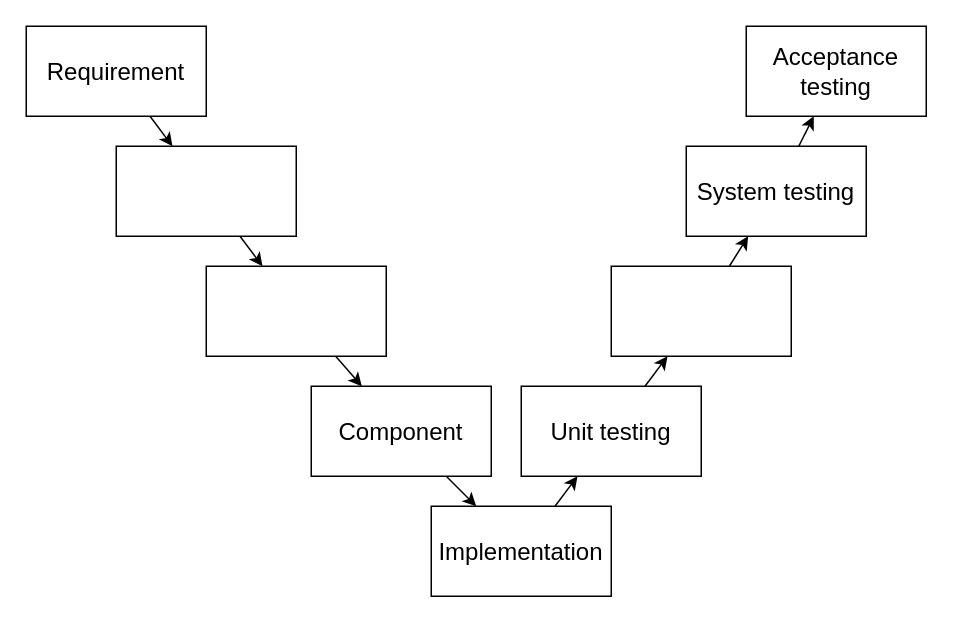
The diagram is 953 pixels wide and 623 high, and some of its shapes have lost their labels. The centre of each missing label's shape, as x and y in pixels:
"Architecture" goes at point 295,310.
"Design" goes at point 205,190.
"Integration testing" goes at point 700,310.
